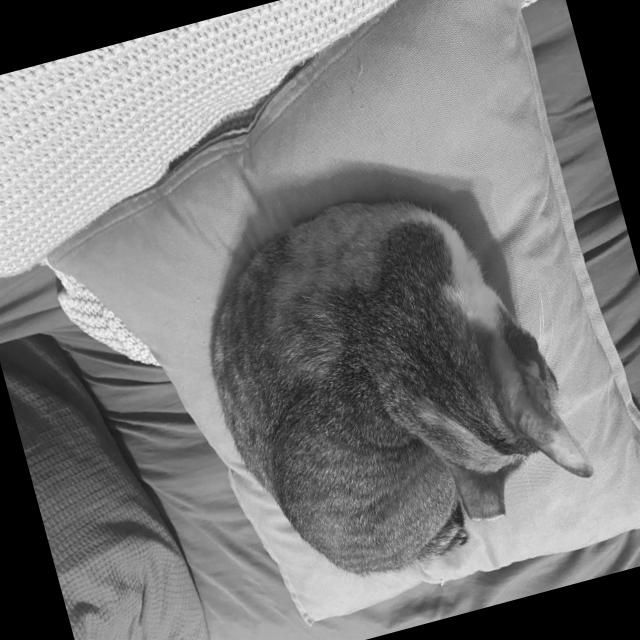cat2: (161, 148, 608, 606)
